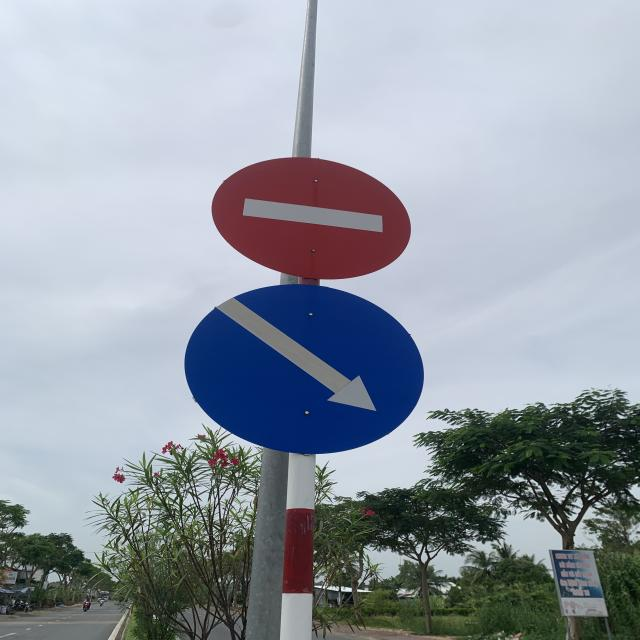Cam_Di_Nguoc_Chieu: (212, 155, 414, 280)
Chi_Huong_Di_Phai: (179, 283, 430, 456)
